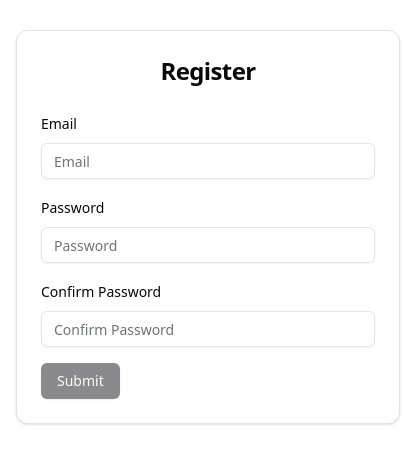
Register Form › Handle Errors › should show confirm password error message on password not match
Expected: the text "The passwords did not match" is not shown
Type "alireza@test.com" into the field labelled "Email" at (208, 161), box x1=41 y1=143 x2=375 y2=179
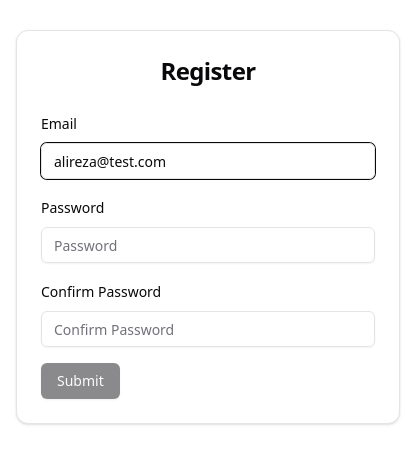
Type "1234" into the password field labelled "Password" at (208, 245), box x1=41 y1=227 x2=375 y2=263
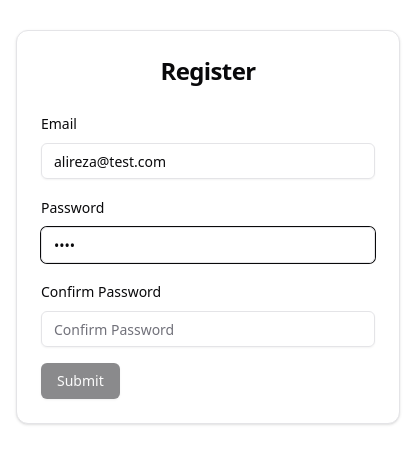
Type "7896" into the password field labelled "Confirm Password" at (208, 329), box x1=41 y1=311 x2=375 y2=347
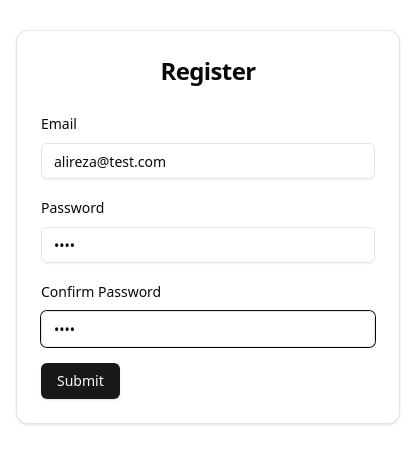
Click the button "Submit" at (80, 381), box x1=41 y1=363 x2=120 y2=399
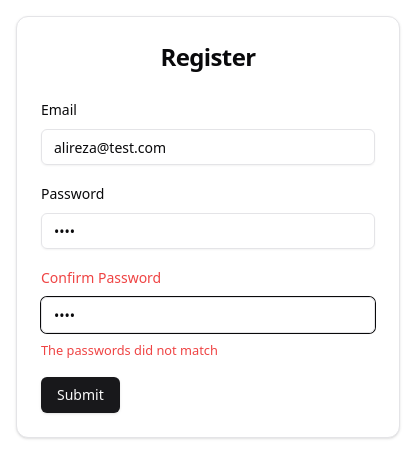
Expected: the text "The passwords did not match" is shown, x1=41 y1=341 x2=218 y2=359
